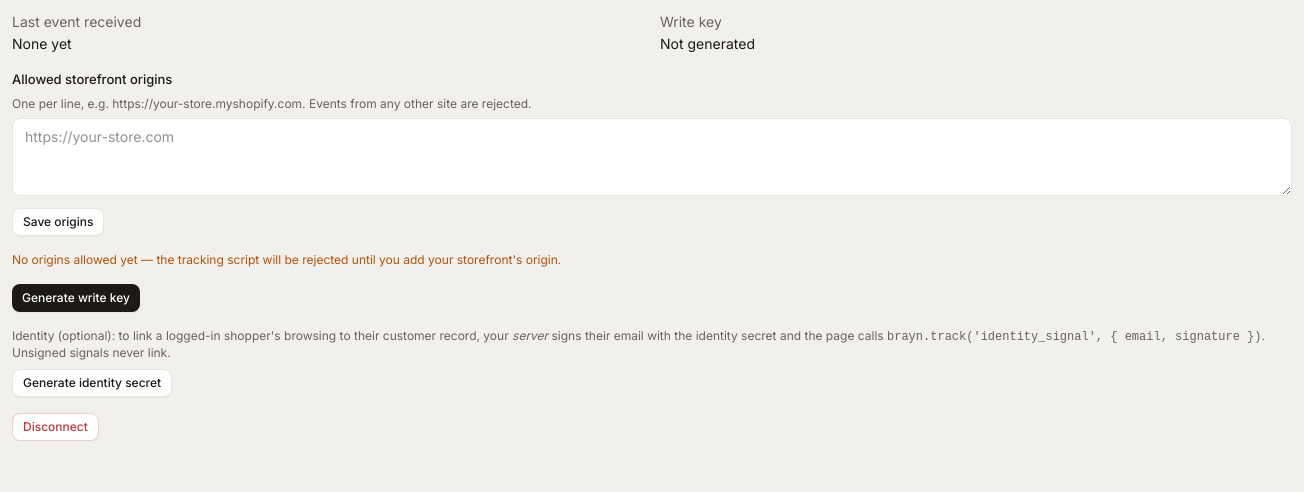
Test: WebsiteTrackingSetup › shows the backend validation failure for a bad origin
Type "not a url" into the text box labelled "Allowed storefront origins".
click(652, 156); type("not a url")  # box [12,118,1292,196]
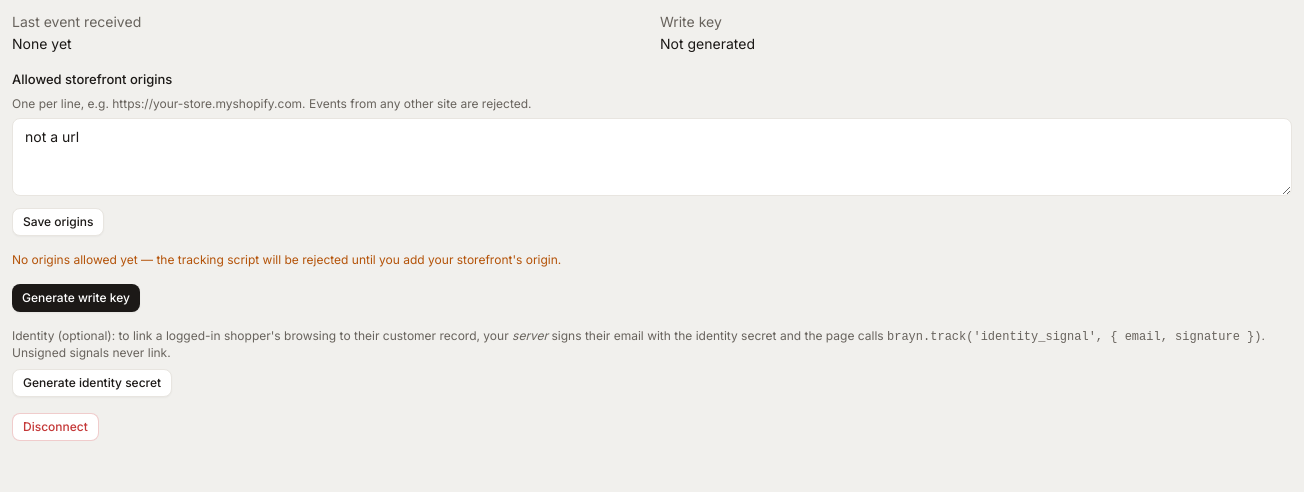
Click the button "Save origins".
click(58, 222)  # box [12,208,104,236]
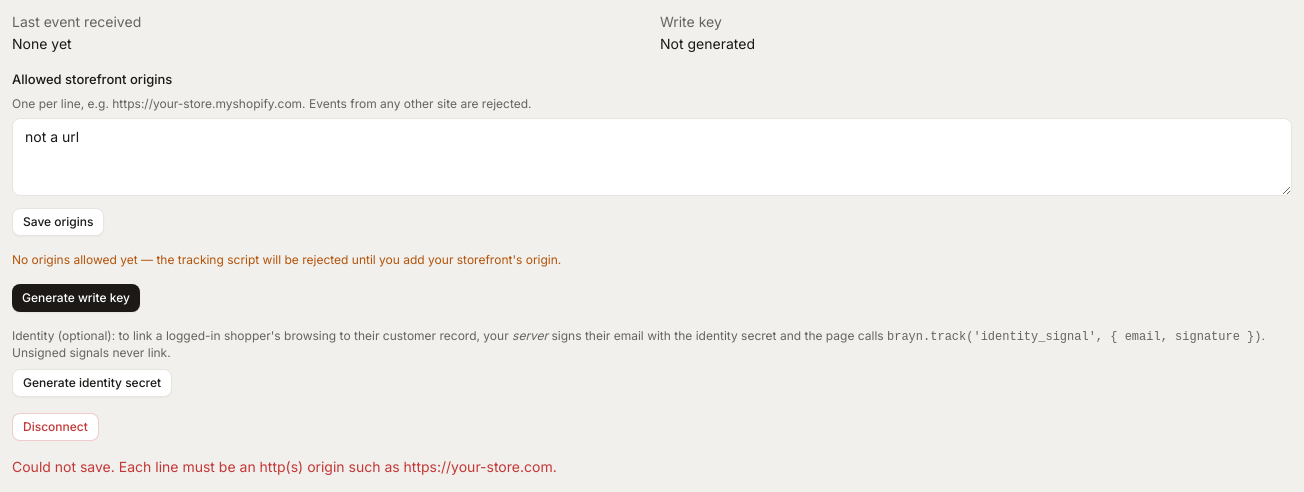
expect the message shows "http(s) origin": met, box [12,458,557,474]
